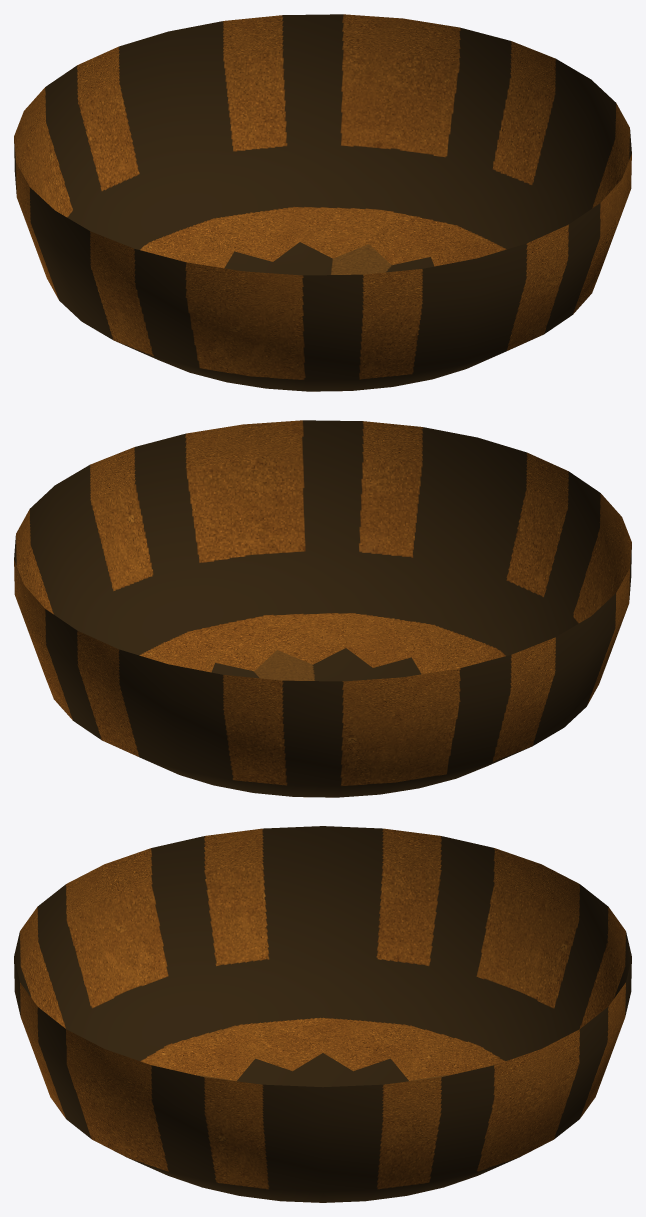
The model's file is bowl.fbx.
3 views of the same model, one above another, from view 1: azimuth 30°, elevation 25°; view 2: azimuth 150°, elevation 25°; view 3: azimuth 270°, elevation 25° (orthographic).
Parts seen in each view (by area): view 1: Bowl; view 2: Bowl; view 3: Bowl.
Part boxes in pixels (box(x1,y1,x2,y2)): Bowl: box(14, 14, 631, 391); Bowl: box(14, 420, 631, 797); Bowl: box(14, 826, 631, 1202).
Bounding box in the file's own units: 106 × 37.6 × 106.
